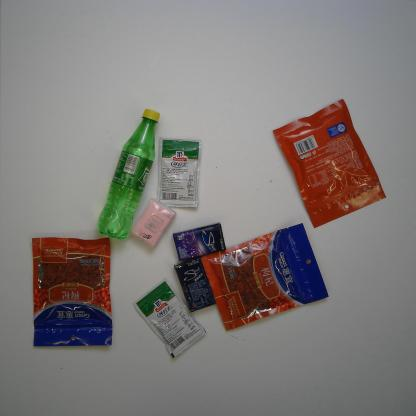Dried Fruit: (270, 97, 388, 231), (199, 220, 332, 332), (28, 231, 115, 351)
Drink: (94, 105, 162, 241)
Gum: (170, 253, 218, 314), (170, 222, 228, 262)
Seasoner: (132, 278, 209, 361), (155, 135, 203, 210)
Tissue: (128, 195, 178, 249)
